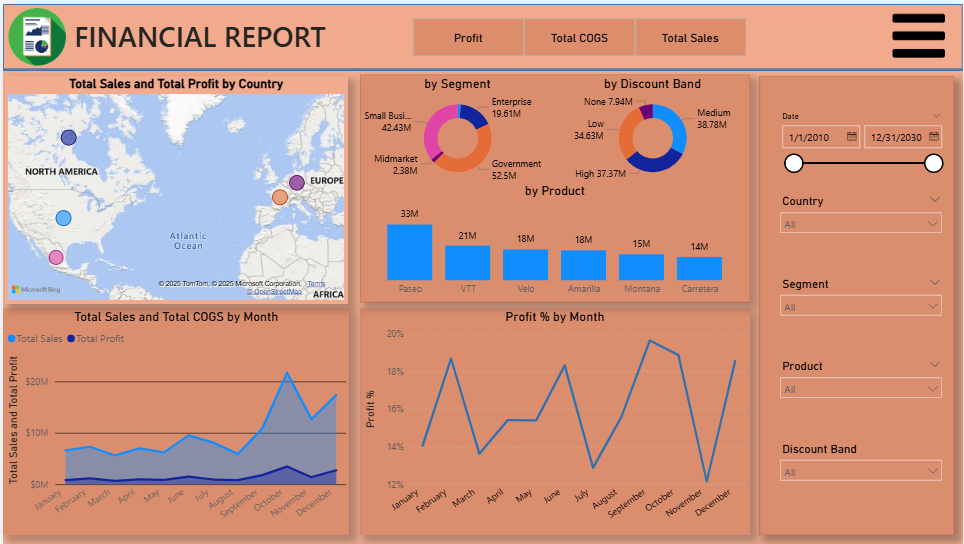

What the dashboard file says about the page in this screenshot:
{"tool":"powerbi","page":{"name":"Financial Report","canvas":[1280,720],"ordinal":0},"visuals":[{"type":"shape","box":[476,94,520,304],"z":0},{"type":"shape","box":[1008,96,260,612],"z":1000},{"type":"shape","box":[0,0,1280,176],"z":2000},{"type":"shape","box":[0,0,1279.4,86.9],"z":3000},{"type":"image","box":[0,0,90.7,86.9],"z":4000},{"type":"textbox","box":[90.3,11.1,352.1,66.4],"z":5000},{"type":"advancedSlicerVisual","fields":{"Values":["Metrics.Measures"]},"box":[542,14,454,60],"z":11000},{"type":"map","title":"Total Sales and Total Profit by Country","fields":{"Category":["financials.Country"],"Series":["financials.Country"],"Size":["All Measures.Measure Logic"]},"box":[2,96,458,304],"z":12000},{"type":"areaChart","title":"Total Sales and Total COGS by Month","fields":{"Category":["Date Table.Date.Variation.Date Hierarchy.Month"],"Y":["All Measures.Total Sales","All Measures.Total Profit"]},"box":[0,406,462,302],"z":16000},{"type":"card","fields":{"Values":["All Measures.Total Sales"]},"box":[1022,176,232,106],"z":17000},{"type":"image","box":[1008,96,94,80],"z":18000},{"type":"card","fields":{"Values":["All Measures.Total COGS"]},"box":[1022,282,232,106],"z":19000},{"type":"card","fields":{"Values":["All Measures.Sales vs Cost of good sold"]},"box":[1022,388,232,106],"z":20000},{"type":"card","fields":{"Values":["All Measures.Profit %"]},"box":[1022,494,232,106],"z":21000},{"type":"lineChart","fields":{"Y":["All Measures.Profit %"],"Category":["Date Table.Date.Variation.Date Hierarchy.Month"]},"box":[476,406,520,302],"z":23000},{"type":"donutChart","title":"by Segment","fields":{"Y":["All Measures.Measure Logic"],"Series":["financials.Segment"]},"box":[476,96,260,146],"z":24000},{"type":"columnChart","title":"by Product","fields":{"Category":["financials.Product"],"Y":["All Measures.Measure Logic"]},"box":[476,238,520,160],"z":24500},{"type":"donutChart","title":"by Discount Band","fields":{"Category":["financials.Discount Band"],"Y":["All Measures.Measure Logic"]},"box":[736,96,260,146],"z":25000}]}

Visuals, with their boxes in screenshot pixels (x1, y1, x2, y2), scaled from the page's 1280x720 canvas onto the 964x544 screenshot:
shape: crop(358, 71, 750, 301)
shape: crop(759, 73, 955, 535)
shape: crop(0, 0, 963, 133)
shape: crop(0, 0, 963, 66)
image: crop(0, 0, 68, 66)
textbox: crop(68, 8, 333, 59)
advancedSlicerVisual - Metrics.Measures: crop(408, 11, 750, 56)
"Total Sales and Total Profit by Country" map: crop(2, 73, 346, 302)
"Total Sales and Total COGS by Month" areaChart: crop(0, 307, 348, 535)
card - All Measures.Total Sales: crop(770, 133, 944, 213)
image: crop(759, 73, 830, 133)
card - All Measures.Total COGS: crop(770, 213, 944, 293)
card - All Measures.Sales vs Cost of good sold: crop(770, 293, 944, 373)
card - All Measures.Profit %: crop(770, 373, 944, 453)
lineChart - All Measures.Profit % x Date Table.Date.Variation.Date Hierarchy.Month: crop(358, 307, 750, 535)
"by Segment" donutChart: crop(358, 73, 554, 183)
"by Product" columnChart: crop(358, 180, 750, 301)
"by Discount Band" donutChart: crop(554, 73, 750, 183)
